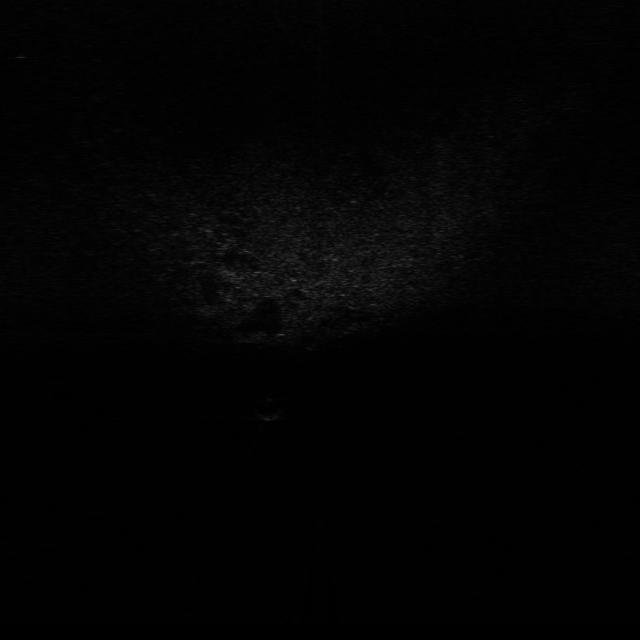ball: (249, 397, 292, 421)
